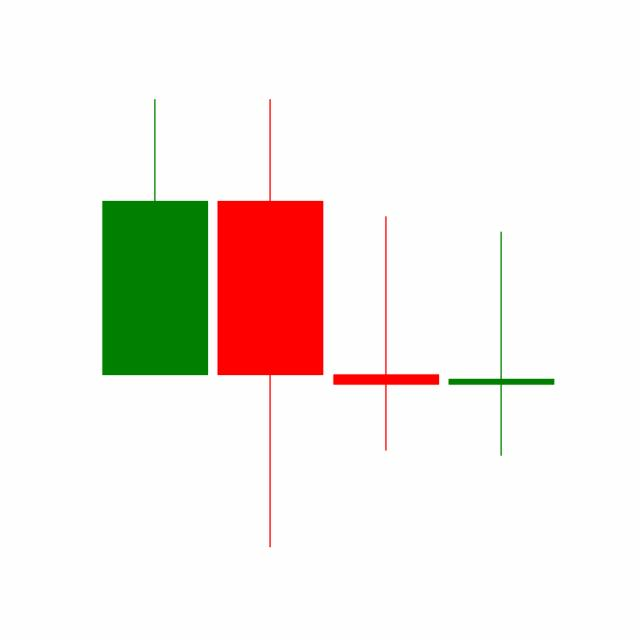Spinning Top: (443, 228, 559, 458)
